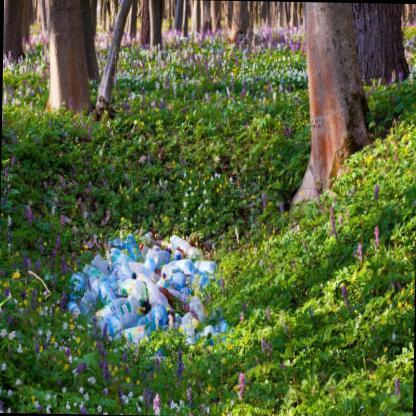Garbage: (112, 231, 230, 347), (98, 258, 204, 332), (77, 260, 176, 336)
